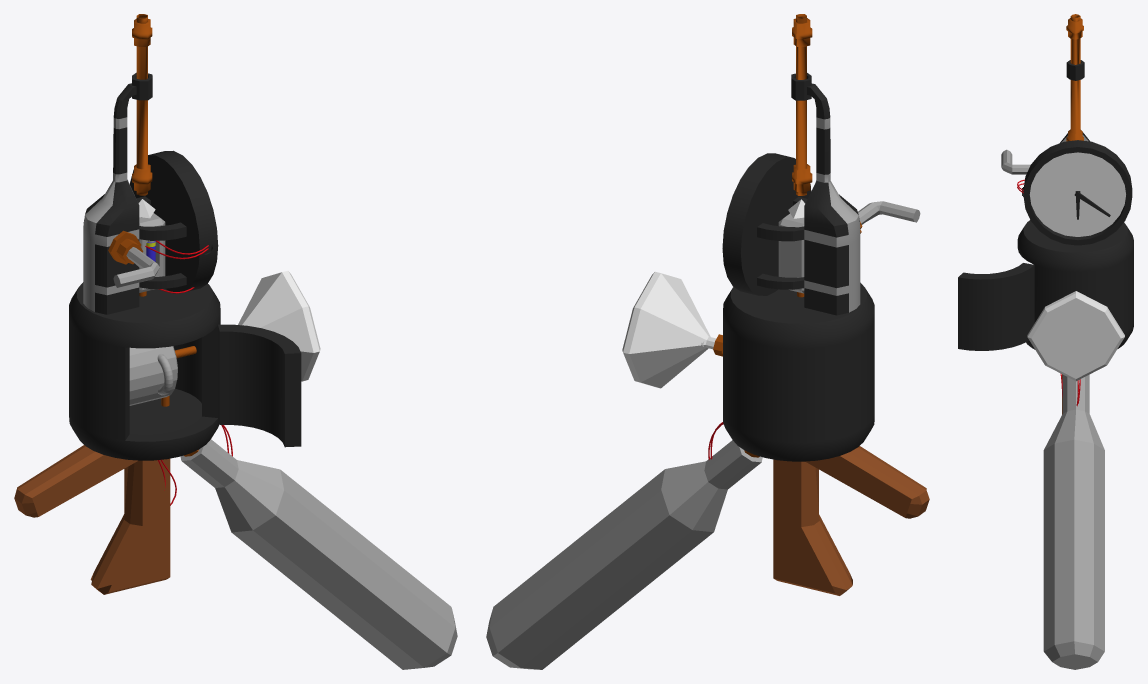
The model's file is Repairgun.fbx.
3 views of the same model, side by side, from view 1: azimuth 30°, elevation 25°; view 2: azimuth 150°, elevation 25°; view 3: azimuth 270°, elevation 25° (orthographic). The views are drawn at different scales.
Parts seen in each view (by area): view 1: SodaStream, ChemicalContainer, FrontFrame, ChemicalContainerHatch, GunStock, Clock, Erlmeyer, GunGrip, Pot, PipeBarrel, DoorHandle, EnergyConverter (+1 smaller); view 2: ChemicalContainer, SodaStream, FrontFrame, GunStock, Clock, Erlmeyer, GunGrip, PipeBarrel, EnergyConverter, DoorHandle; view 3: SodaStream, Clock, ChemicalContainer, ChemicalContainerHatch, Erlmeyer, PipeBarrel, DoorHandle, FrontFrame.
Boxes of the visible parts, x1=… form: SodaStream: x1=180, y1=439, x2=457, y2=669; ChemicalContainer: x1=69, y1=282, x2=220, y2=460; FrontFrame: x1=83, y1=72, x2=186, y2=314; ChemicalContainerHatch: x1=218, y1=324, x2=301, y2=447; GunStock: x1=90, y1=458, x2=170, y2=594; Clock: x1=130, y1=150, x2=218, y2=291; Erlmeyer: x1=238, y1=271, x2=320, y2=381; GunGrip: x1=14, y1=445, x2=137, y2=517; Pot: x1=129, y1=346, x2=177, y2=405; PipeBarrel: x1=132, y1=14, x2=152, y2=195; DoorHandle: x1=113, y1=247, x2=159, y2=287; EnergyConverter: x1=139, y1=213, x2=165, y2=292; ChemicalContainer: x1=723, y1=282, x2=874, y2=461; SodaStream: x1=486, y1=440, x2=762, y2=669; FrontFrame: x1=757, y1=73, x2=860, y2=315; GunStock: x1=773, y1=459, x2=852, y2=595; Clock: x1=722, y1=153, x2=811, y2=295; Erlmeyer: x1=622, y1=271, x2=716, y2=388; GunGrip: x1=805, y1=446, x2=929, y2=518; PipeBarrel: x1=792, y1=14, x2=812, y2=195; EnergyConverter: x1=778, y1=213, x2=804, y2=293; DoorHandle: x1=858, y1=201, x2=920, y2=224; SodaStream: x1=1043, y1=374, x2=1104, y2=669; Clock: x1=1023, y1=140, x2=1132, y2=245; ChemicalContainer: x1=1017, y1=220, x2=1133, y2=349; ChemicalContainerHatch: x1=958, y1=263, x2=1034, y2=350; Erlmeyer: x1=1027, y1=291, x2=1124, y2=381; PipeBarrel: x1=1066, y1=14, x2=1083, y2=141; DoorHandle: x1=1001, y1=149, x2=1030, y2=174; FrontFrame: x1=1060, y1=60, x2=1090, y2=142.
Size of the model in its own units: 47.45 by 74.68 by 21.6.
